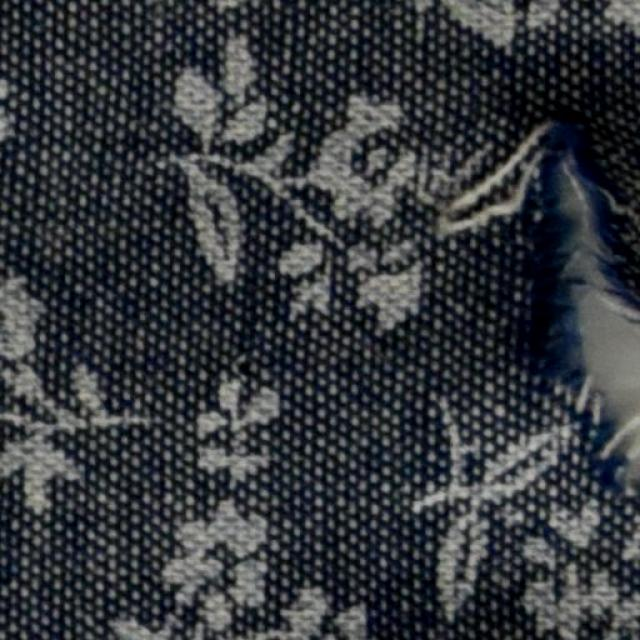Hole: (563, 193, 639, 446)
Snag: (521, 137, 639, 490)
